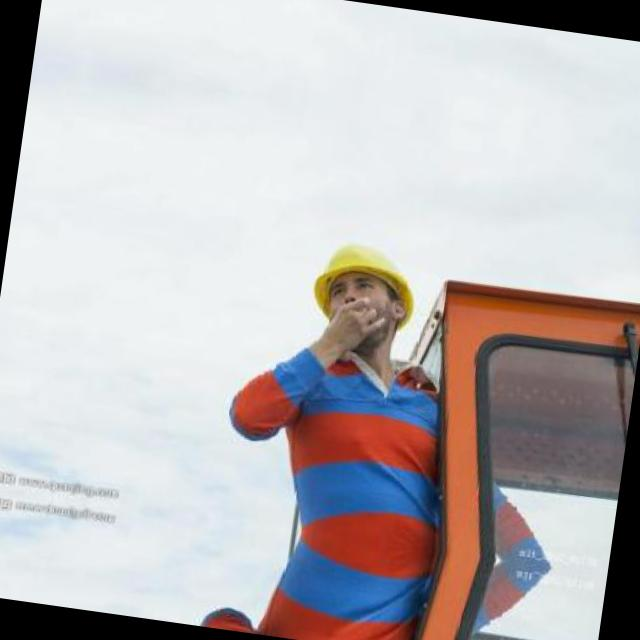helmet: (306, 230, 424, 357)
